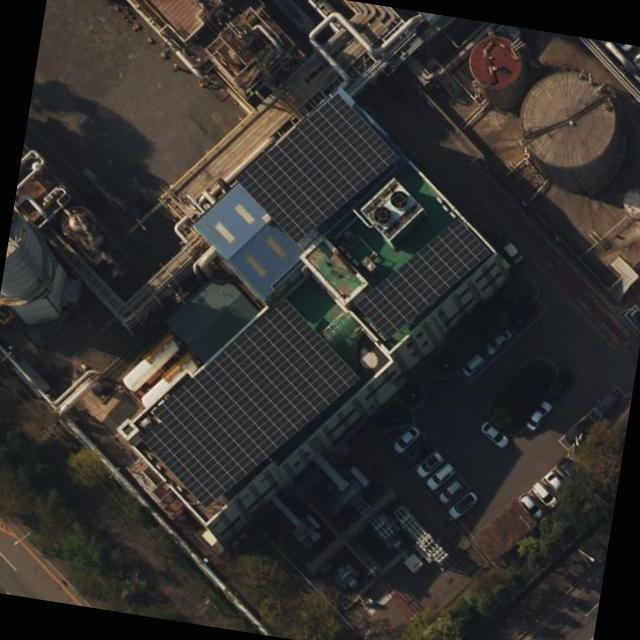solar: (131, 277, 373, 528), (224, 78, 409, 258), (348, 201, 499, 355)
